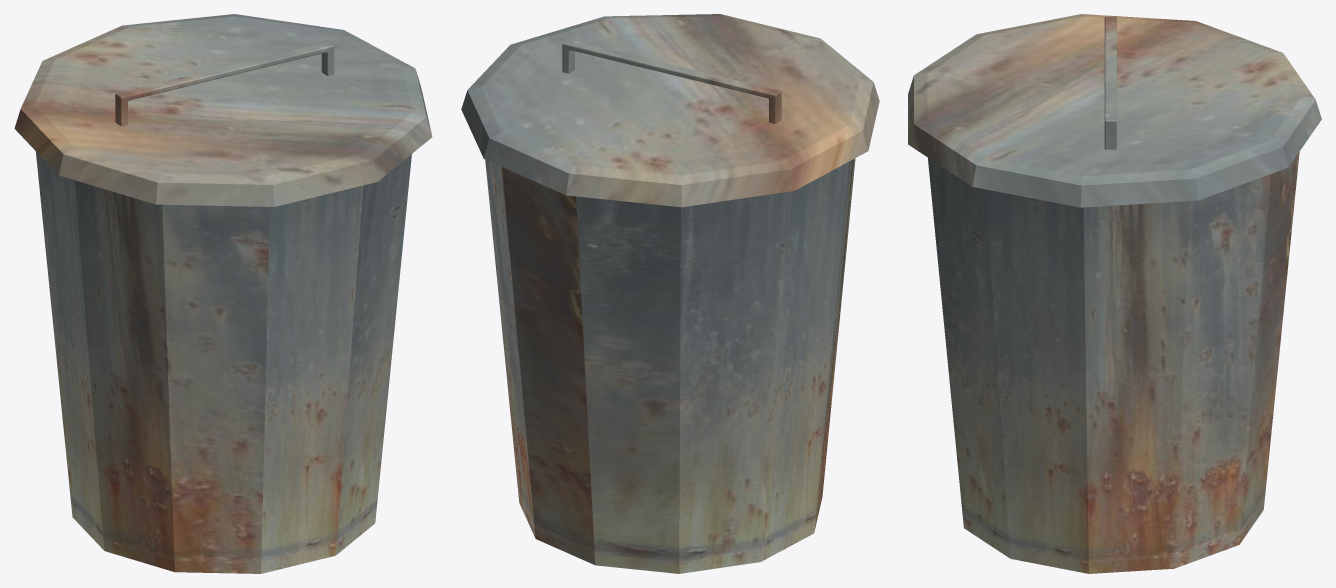
The model's file is Garbage.fbx.
3 views of the same model, side by side, from view 1: azimuth 30°, elevation 25°; view 2: azimuth 150°, elevation 25°; view 3: azimuth 270°, elevation 25° (orthographic).
Parts seen in each view (by area): view 1: Cylinder.001; view 2: Cylinder.001; view 3: Cylinder.001.
Boxes of the visible parts, x1=… form: Cylinder.001: x1=14, y1=14, x2=432, y2=573; Cylinder.001: x1=461, y1=14, x2=879, y2=573; Cylinder.001: x1=908, y1=14, x2=1321, y2=573.
Bounding box in the file's own units: 216 × 251 × 213.
